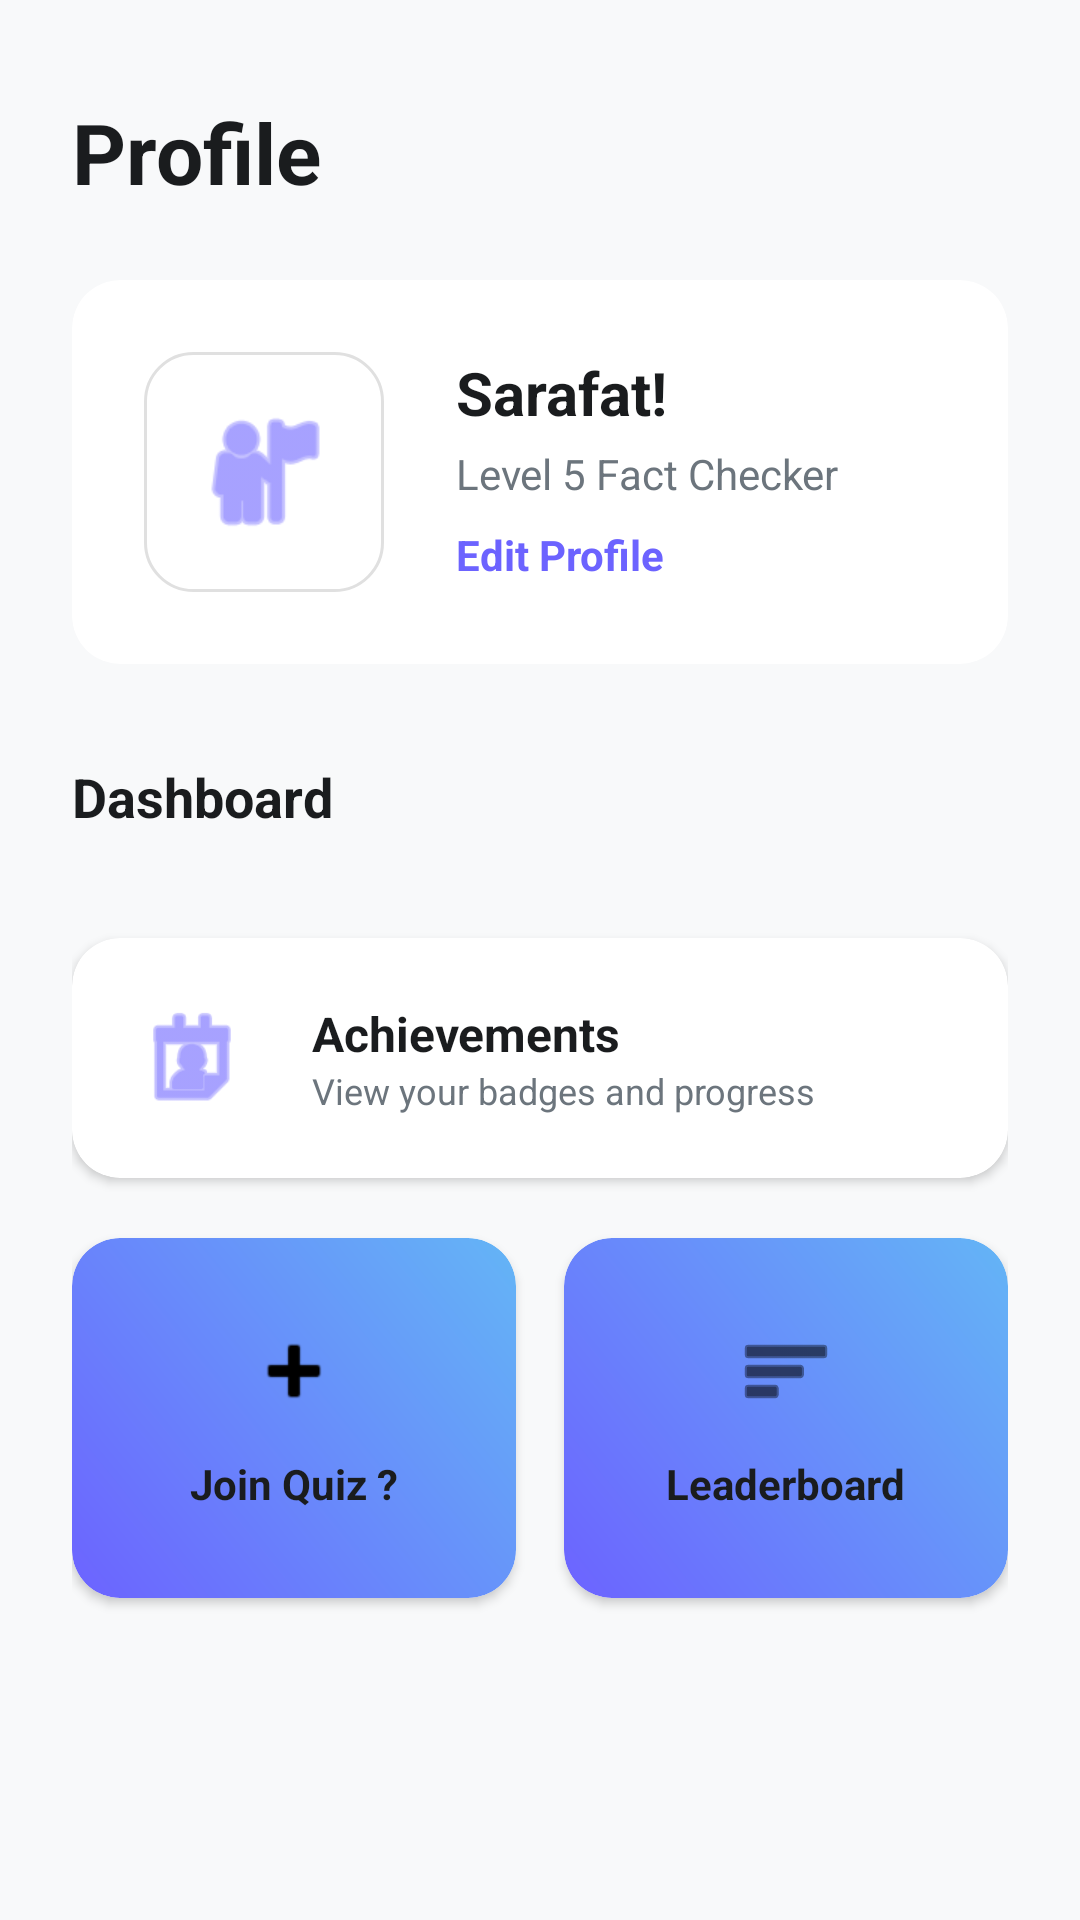

Locate icon controls on the screen. Image size 1080 x 1920, boxes as (x1, y1, x2, y2).
add: (267, 1344, 321, 1398)
sort by size: (745, 1344, 827, 1399)
